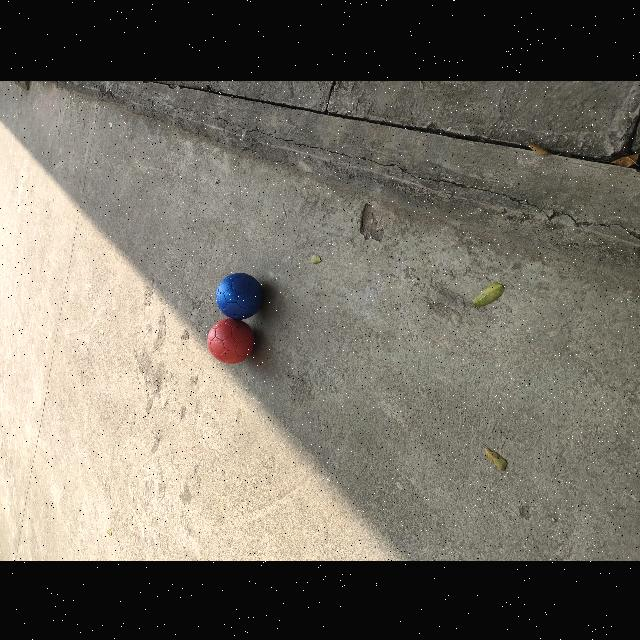B: (216, 271, 263, 318)
R: (207, 318, 255, 362)
